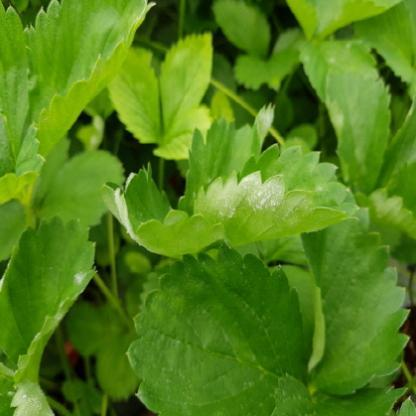Strawberry_Powdery_Mildew_Leaf: (192, 142, 360, 248), (0, 213, 99, 387), (102, 162, 226, 256), (176, 102, 277, 215), (1, 361, 57, 415)
